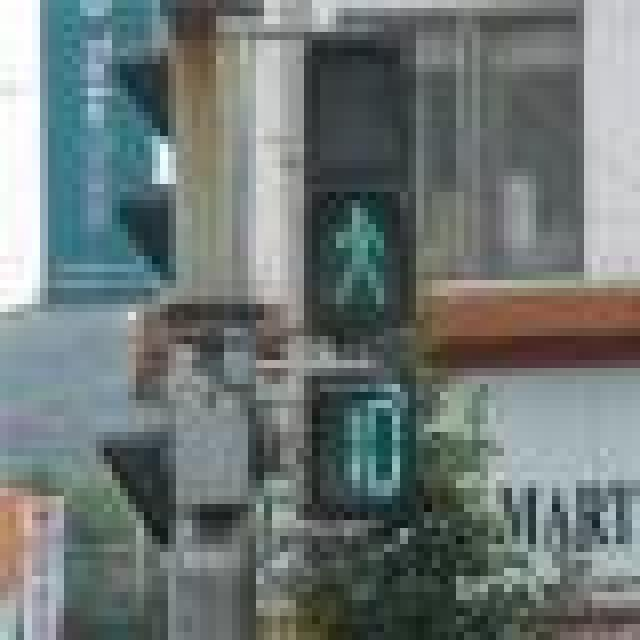greenlight: (280, 24, 424, 328)
